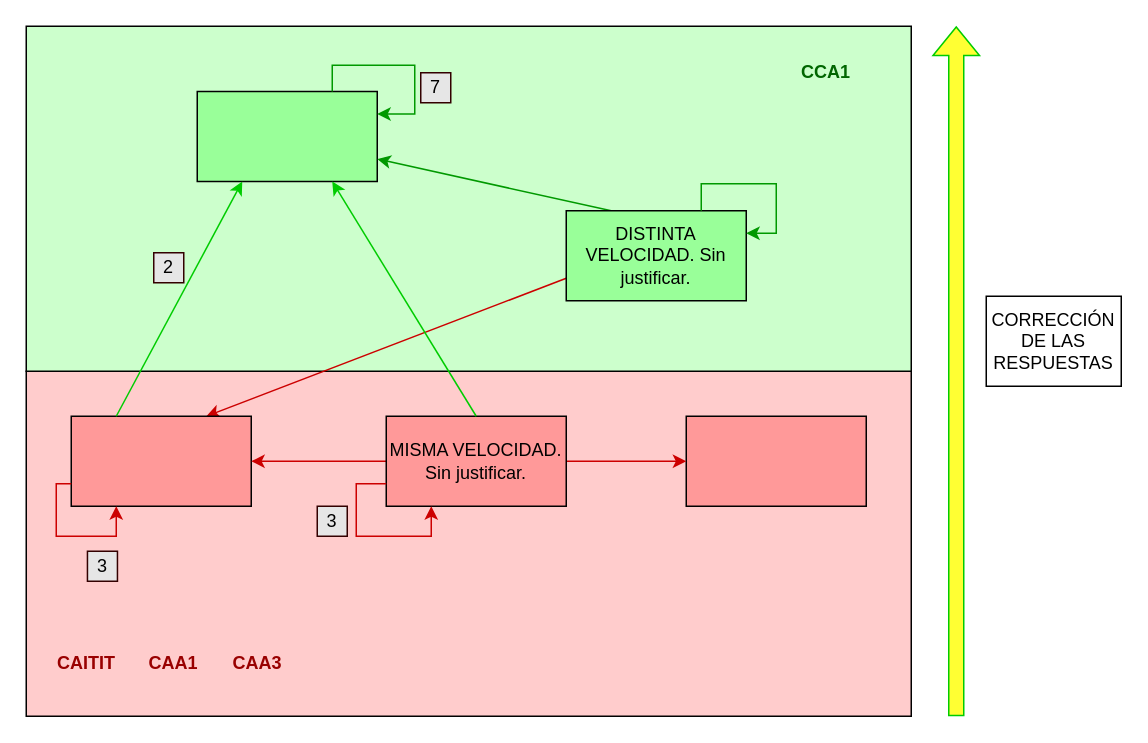
Some shapes in this 1148 by 743 pixel diagram are drawn without their labels. The shapes that lost their labels are listed below. From the top down, each one's centre as x and y in pixels, then its label:
pixel 286 136: DISTINTA VELOCIDAD. Justificación con adelantamiento.
pixel 160 460: MISMA VELOCIDAD. Justificación incorrecta.
pixel 775 460: NS / NC
